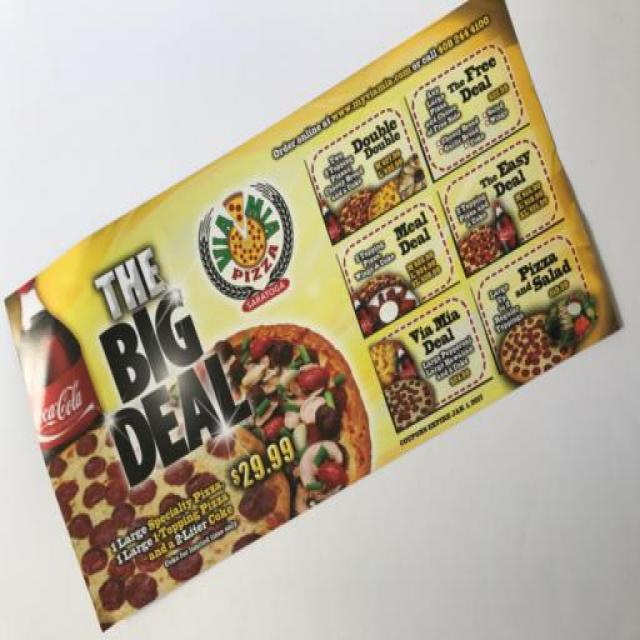paper: (6, 4, 640, 640)
